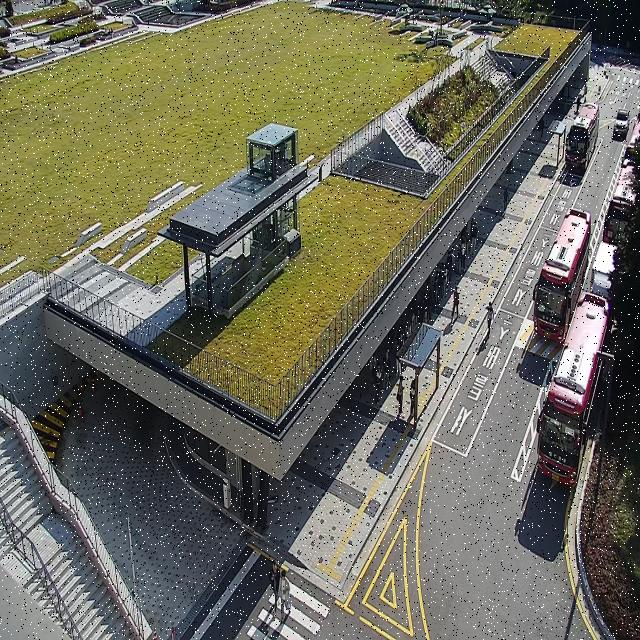queue: (412, 222, 478, 429)
